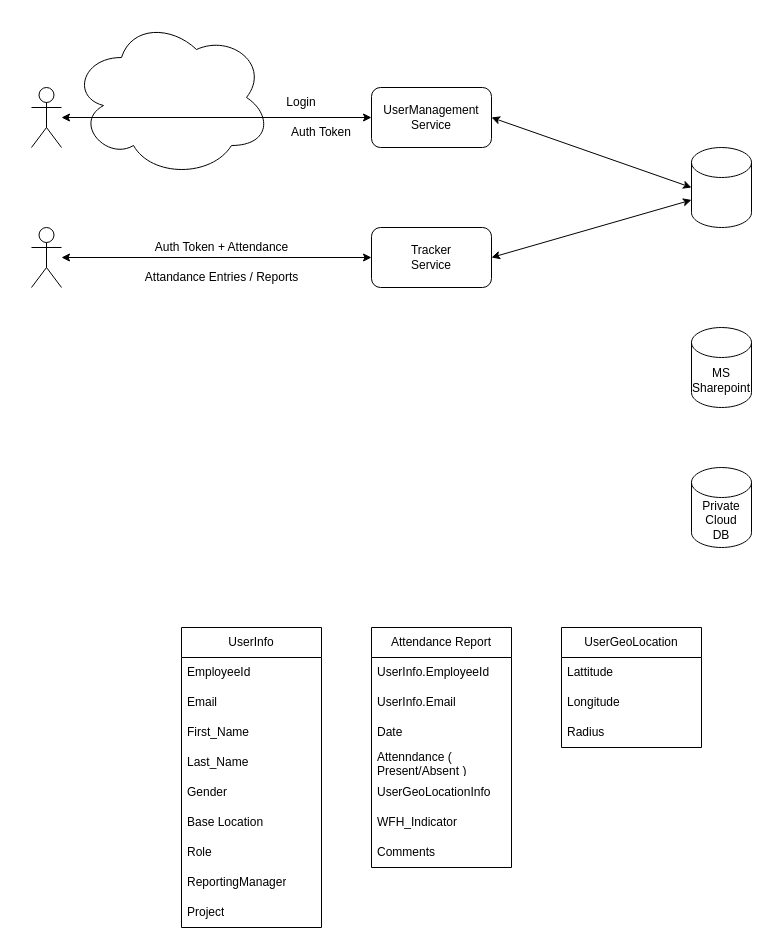
This 769x945 diagram has some shape labels left out. The centre of each missing label's shape, as x and y in pixels:
Authorized Employees: the point at 46,257
Employees: the point at 46,117
Local Excel Sheet: the point at 721,187
TOTP - 2FA: the point at 171,97
